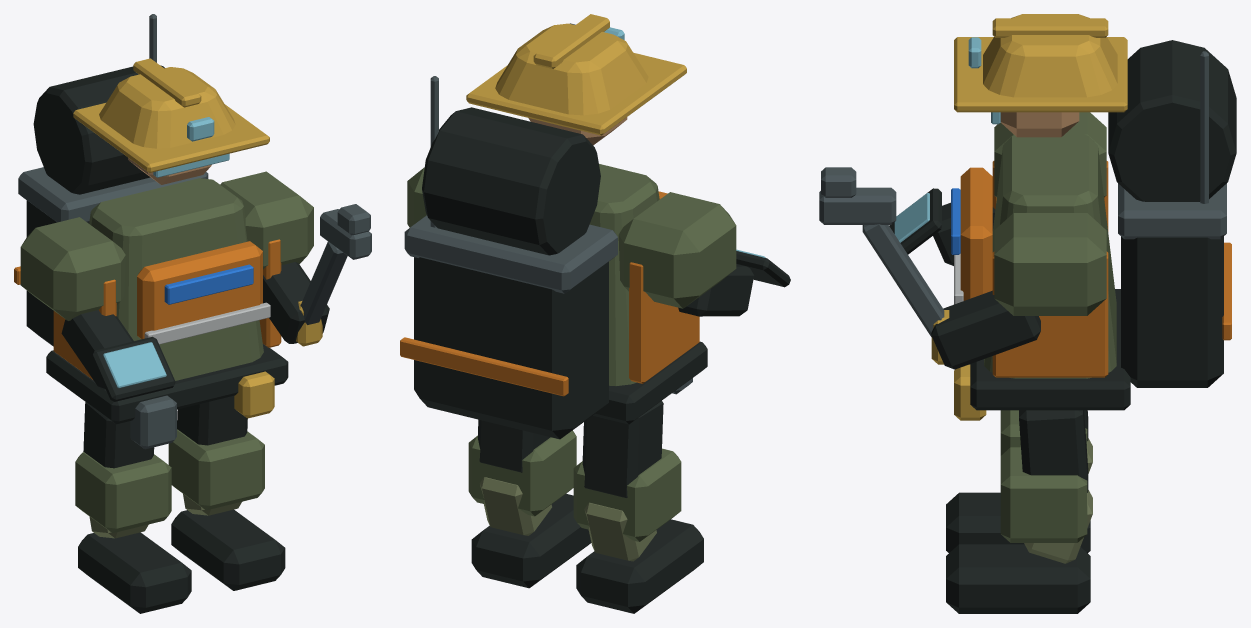
File: h_engineer.glb
The picture shows the model from 3 angles, left to right: view 1: azimuth 30°, elevation 25°; view 2: azimuth 150°, elevation 25°; view 3: azimuth 270°, elevation 25°; orthographic projection. The views are drawn at different scales.
Parts seen in each view (by area): view 1: Body armor, Leg armor, Leg armor.001; view 2: Body armor, Leg armor, Leg armor.001; view 3: Body armor, Leg armor.001, Leg armor.
Part boxes in pixels (x1,y1,x2,y2): Body armor: (14, 14, 371, 449); Leg armor: (75, 402, 191, 613); Leg armor.001: (168, 395, 285, 590); Body armor: (400, 14, 790, 439); Leg armor: (573, 401, 703, 613); Leg armor.001: (468, 419, 591, 588); Body armor: (819, 14, 1236, 420); Leg armor.001: (946, 410, 1092, 613); Leg armor: (946, 410, 1092, 553).
Bounding box in the file's own units: 1.06 × 1.9 × 1.3.
